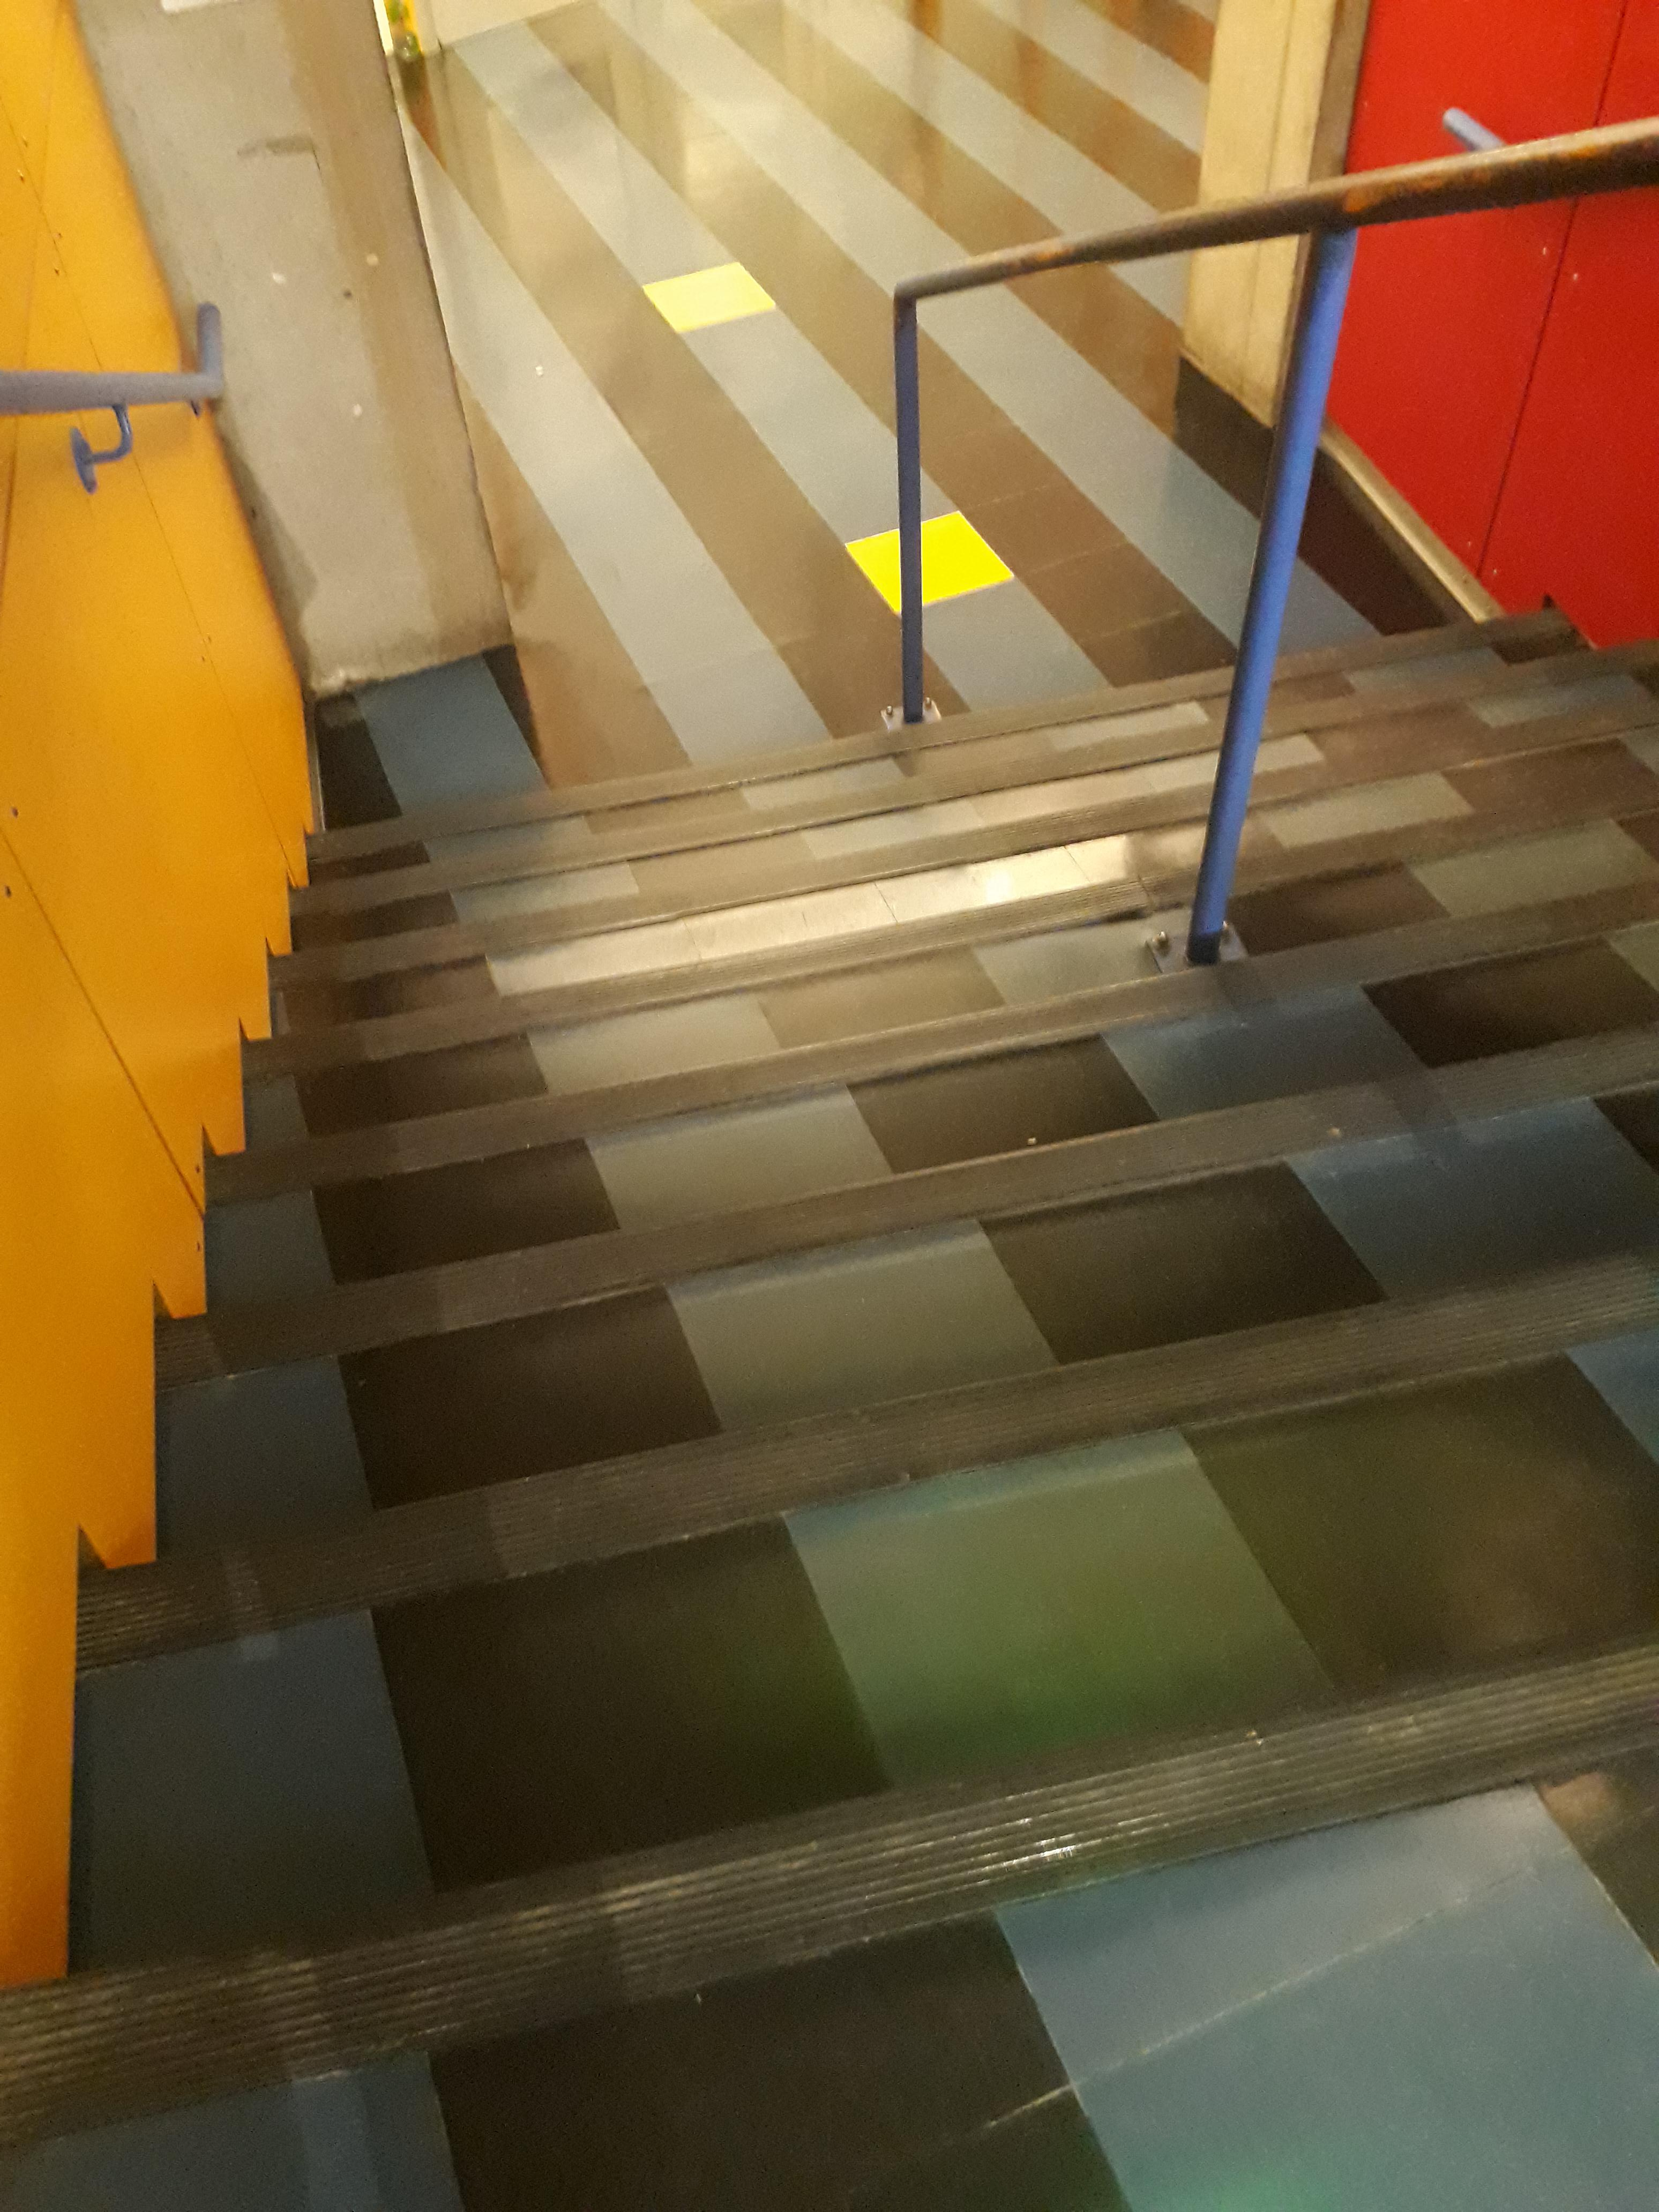stair: (80, 608, 1657, 1982)
